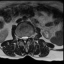CCS_normal: (23, 34, 26, 45)
LFS_normal: (28, 33, 30, 41)
LLS_normal: (26, 33, 28, 41)
RFS_stenosis: (19, 34, 21, 41)
RLS_normal: (21, 34, 23, 42)
